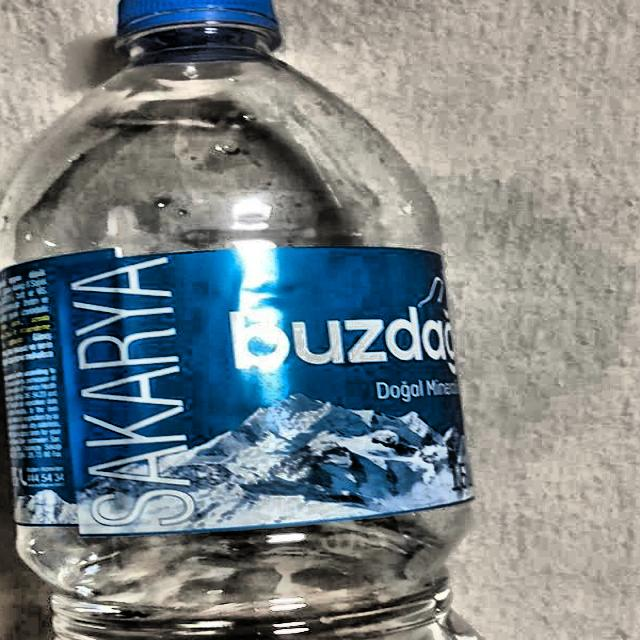plastic: (0, 0, 487, 640)
